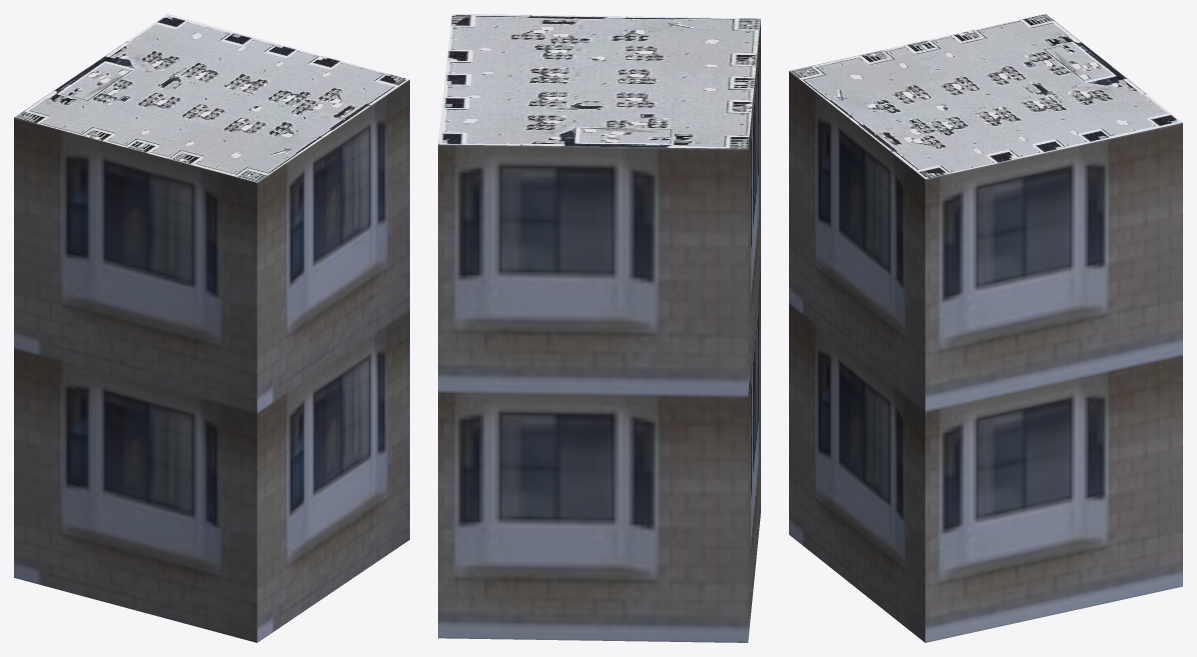
File: ResTex__1499.fbx
3 renders of one model, left to right at view 1: azimuth 30°, elevation 25°; view 2: azimuth 150°, elevation 25°; view 3: azimuth 270°, elevation 25°, orthographic. The views are drawn at different scales.
Visible parts, largest first — view 1: CityEngineMaterial_3_m, CityEngineMaterial_8_m; view 2: CityEngineMaterial_3_m, CityEngineMaterial_8_m; view 3: CityEngineMaterial_3_m, CityEngineMaterial_8_m.
Boxes of the visible parts, bbox=[...] form: CityEngineMaterial_3_m: bbox=[14, 80, 409, 642]; CityEngineMaterial_8_m: bbox=[14, 14, 409, 182]; CityEngineMaterial_3_m: bbox=[438, 20, 760, 642]; CityEngineMaterial_8_m: bbox=[438, 14, 760, 148]; CityEngineMaterial_3_m: bbox=[789, 71, 1182, 642]; CityEngineMaterial_8_m: bbox=[789, 14, 1182, 178].
Size of the model in its own units: 4.58 by 6 by 4.62.
Materials: 2 (2 with a texture image).
